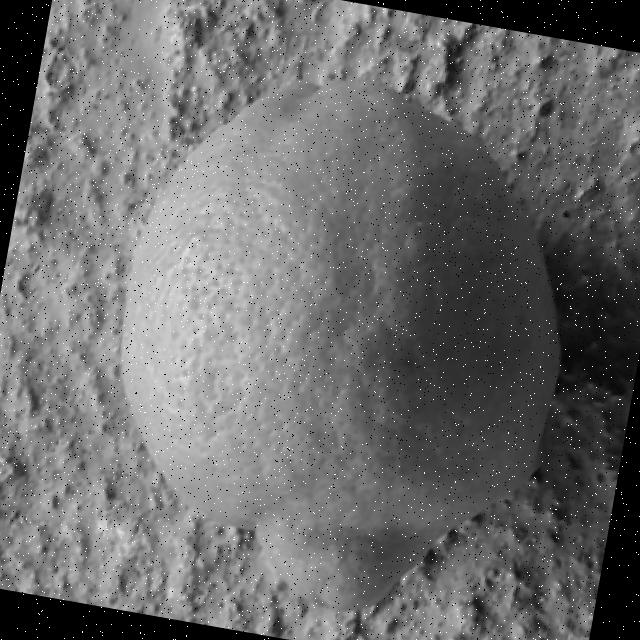Ripe: (75, 39, 609, 640)
